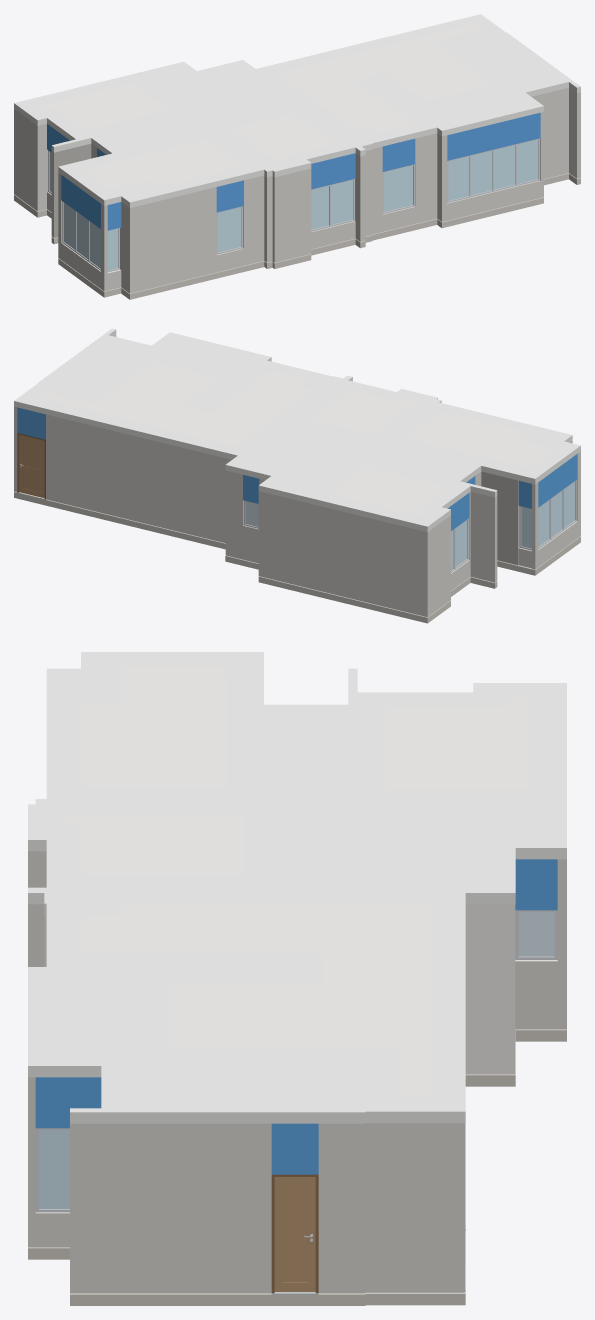
The model's file is 3BHK_Windgates_3dsMax.fbx.
The picture shows the model from 3 angles, top to bottom: view 1: azimuth 30°, elevation 25°; view 2: azimuth 150°, elevation 25°; view 3: azimuth 270°, elevation 25°; orthographic projection. The views are drawn at different scales.
Visible parts, largest first — view 1: Ceiling_Slab, Room_01_Recessed_Ceiling_Plane, Wall_014, Room_02_Recessed_Ceiling_Plane, Floor_Slab, Wall_023, Room_03_Recessed_Ceiling_Plane, Wall_001, Room_04_Recessed_Ceiling_Plane, Lintel_Window_001, Wall_019, Wall_022 (+37 smaller); view 2: Ceiling_Slab, Wall_003, Wall_004, Room_01_Recessed_Ceiling_Plane, Room_02_Recessed_Ceiling_Plane, Floor_Slab, Room_03_Recessed_Ceiling_Plane, Room_04_Recessed_Ceiling_Plane, Wall_006, Wall_009, Wall_022, Door_01_Leaf (+15 smaller); view 3: Ceiling_Slab, Room_01_Recessed_Ceiling_Plane, Wall_008, Room_02_Recessed_Ceiling_Plane, Wall_021, Room_03_Recessed_Ceiling_Plane, Room_04_Recessed_Ceiling_Plane, Wall_011, Wall_026, Floor_Slab, Door_06_Leaf, Sill_Vent_01 (+11 smaller).
Boxes of the visible parts, x1=… form: Ceiling_Slab: x1=14, y1=14, x2=580, y2=207; Room_01_Recessed_Ceiling_Plane: x1=277, y1=24, x2=490, y2=133; Wall_014: x1=154, y1=187, x2=216, y2=287; Room_02_Recessed_Ceiling_Plane: x1=84, y1=139, x2=242, y2=188; Floor_Slab: x1=14, y1=173, x2=580, y2=299; Wall_023: x1=272, y1=168, x2=311, y2=262; Room_03_Recessed_Ceiling_Plane: x1=39, y1=83, x2=186, y2=129; Wall_001: x1=120, y1=202, x2=154, y2=293; Room_04_Recessed_Ceiling_Plane: x1=232, y1=114, x2=333, y2=161; Lintel_Window_001: x1=447, y1=112, x2=540, y2=160; Wall_019: x1=531, y1=87, x2=568, y2=178; Wall_022: x1=16, y1=111, x2=40, y2=211; Ceiling_Slab: x1=14, y1=328, x2=580, y2=532; Wall_003: x1=46, y1=414, x2=231, y2=542; Wall_004: x1=258, y1=491, x2=429, y2=617; Room_01_Recessed_Ceiling_Plane: x1=39, y1=362, x2=311, y2=445; Room_02_Recessed_Ceiling_Plane: x1=406, y1=412, x2=554, y2=467; Floor_Slab: x1=14, y1=491, x2=580, y2=623; Room_03_Recessed_Ceiling_Plane: x1=329, y1=453, x2=447, y2=515; Room_04_Recessed_Ceiling_Plane: x1=311, y1=390, x2=416, y2=434; Wall_006: x1=469, y1=491, x2=497, y2=582; Wall_009: x1=481, y1=471, x2=519, y2=565; Wall_022: x1=430, y1=515, x2=450, y2=615; Door_01_Leaf: x1=19, y1=435, x2=44, y2=498; Ceiling_Slab: x1=28, y1=652, x2=566, y2=1123; Room_01_Recessed_Ceiling_Plane: x1=82, y1=905, x2=429, y2=1096; Wall_008: x1=70, y1=1123, x2=271, y2=1293; Room_02_Recessed_Ceiling_Plane: x1=82, y1=667, x2=226, y2=787; Wall_021: x1=373, y1=1123, x2=465, y2=1292; Room_03_Recessed_Ceiling_Plane: x1=310, y1=698, x2=529, y2=788; Room_04_Recessed_Ceiling_Plane: x1=64, y1=816, x2=244, y2=875; Wall_011: x1=465, y1=904, x2=515, y2=1074; Wall_026: x1=318, y1=1123, x2=365, y2=1293; Floor_Slab: x1=28, y1=1029, x2=566, y2=1305; Door_06_Leaf: x1=274, y1=1177, x2=315, y2=1291; Sill_Vent_01: x1=515, y1=960, x2=557, y2=1029.
Bounding box in the file's own units: 17.42 × 3.42 × 8.63.
